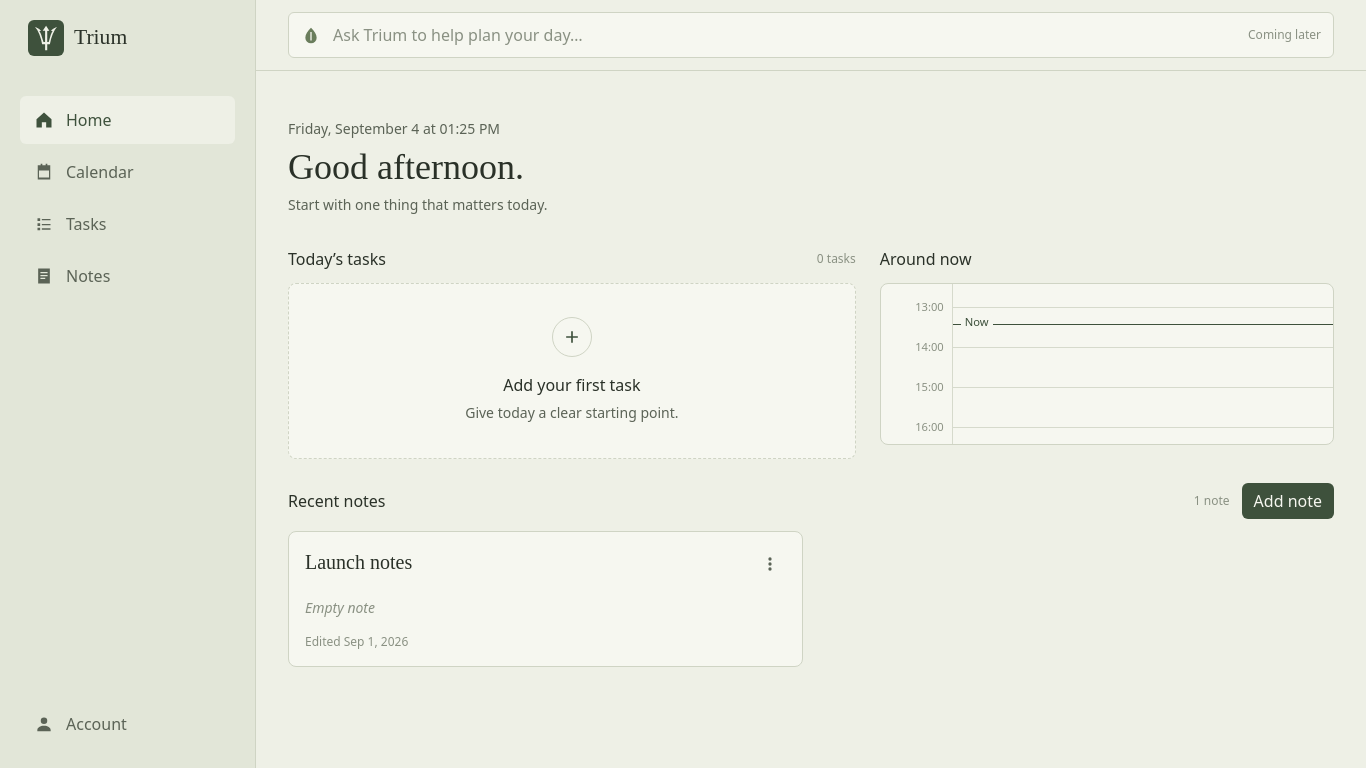
DataProvider › keeps collections when moving between panels
The image size is (1366, 768).
Expected: the heading "Good afternoon." is shown, [288,147,524,187]
Expected: the heading "Launch notes" is shown, [305,548,412,576]
Click the link "Notes": (72, 276) [34,265,110,287]
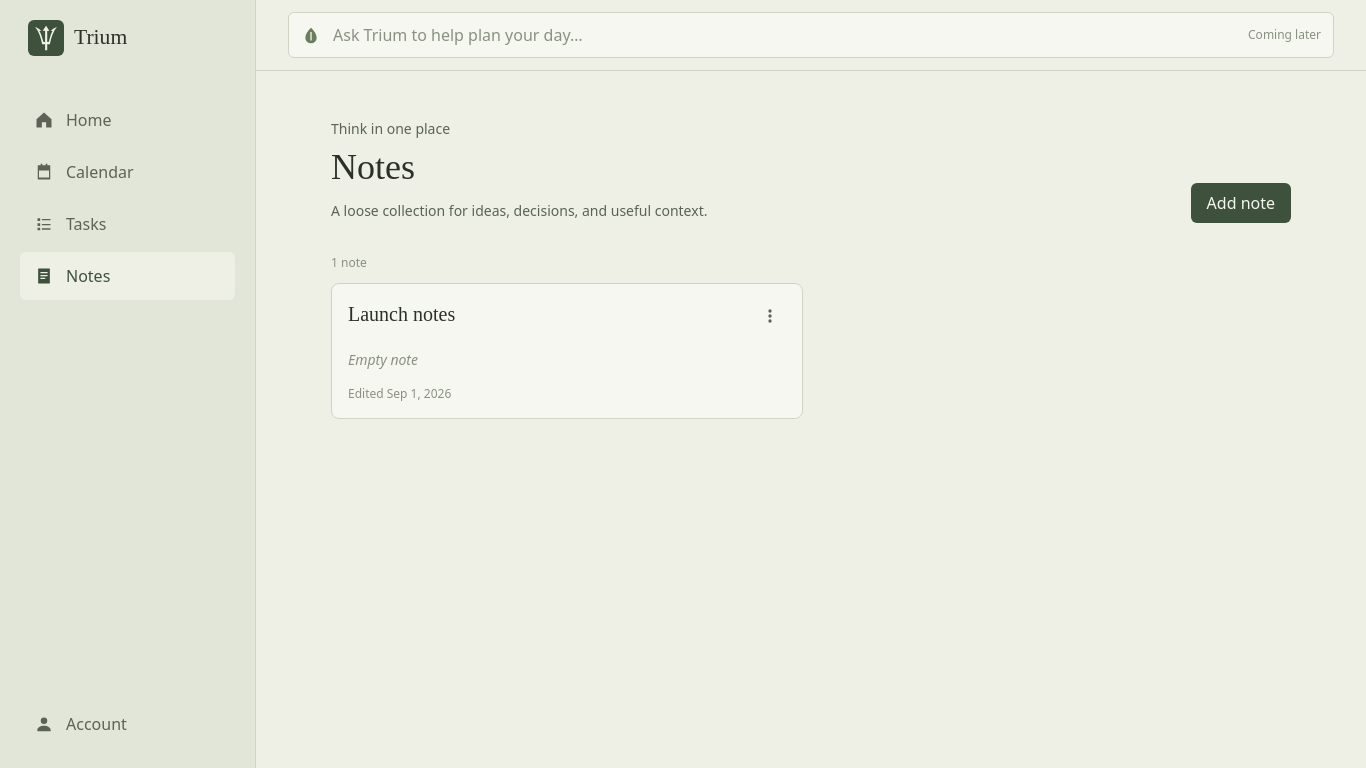
Expected: the heading "Launch notes" is shown, [348,300,455,328]
Expected: the heading "Notes" is shown, [331,147,415,187]
